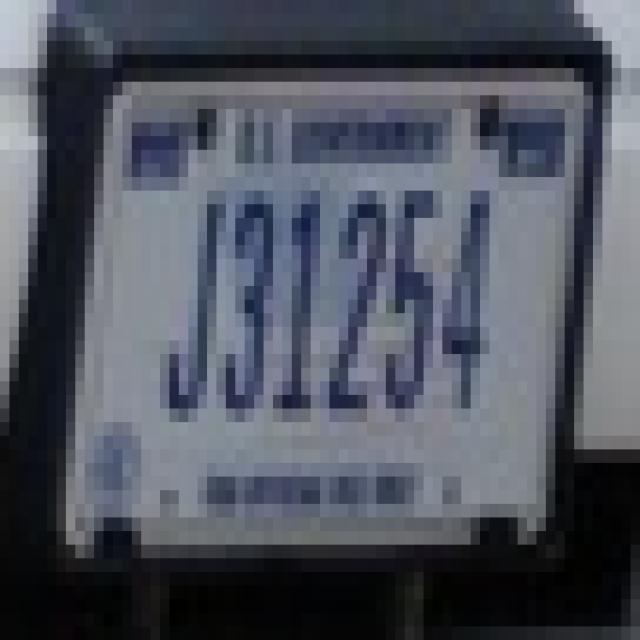licenseplate: (30, 0, 602, 610)
